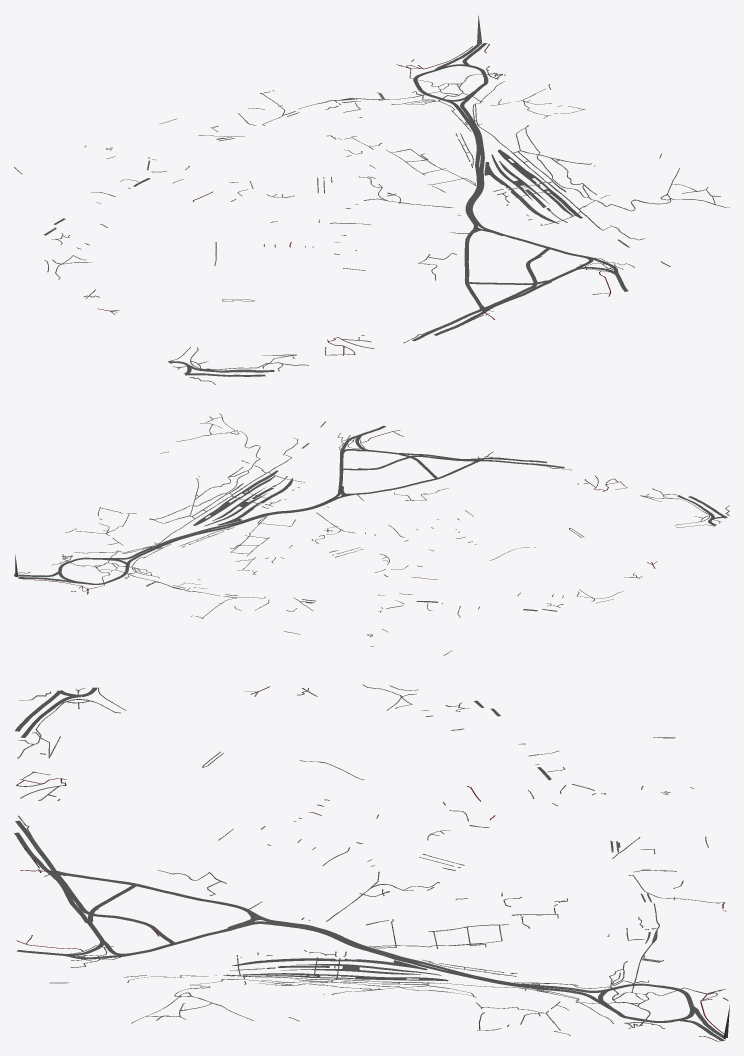
Rendered from map_10.osm_roads_trunk.fbx.
The picture shows the model from 3 angles, top to bottom: view 1: azimuth 30°, elevation 25°; view 2: azimuth 150°, elevation 25°; view 3: azimuth 270°, elevation 25°; orthographic projection. The views are drawn at different scales.
Parts seen in each view (by area): view 1: map_10.osm_roads_trunk, map_10.osm_areas_footway.003; view 2: map_10.osm_roads_trunk, map_10.osm_areas_footway.003; view 3: map_10.osm_roads_trunk, map_10.osm_areas_footway.003, map_10.osm_areas_footway, map_10.osm_areas_footway.012.
Part boxes in pixels (<box>): map_10.osm_roads_trunk: <box>169,15,628,376</box>; map_10.osm_areas_footway.003: <box>498,149,582,218</box>; map_10.osm_roads_trunk: <box>14,425,727,584</box>; map_10.osm_areas_footway.003: <box>193,470,278,525</box>; map_10.osm_roads_trunk: <box>14,687,729,1041</box>; map_10.osm_areas_footway.003: <box>226,973,448,981</box>; map_10.osm_areas_footway: <box>230,964,441,975</box>; map_10.osm_areas_footway.012: <box>232,958,427,970</box>.
Size of the model in its own units: 142805 by 7270 by 126318.
